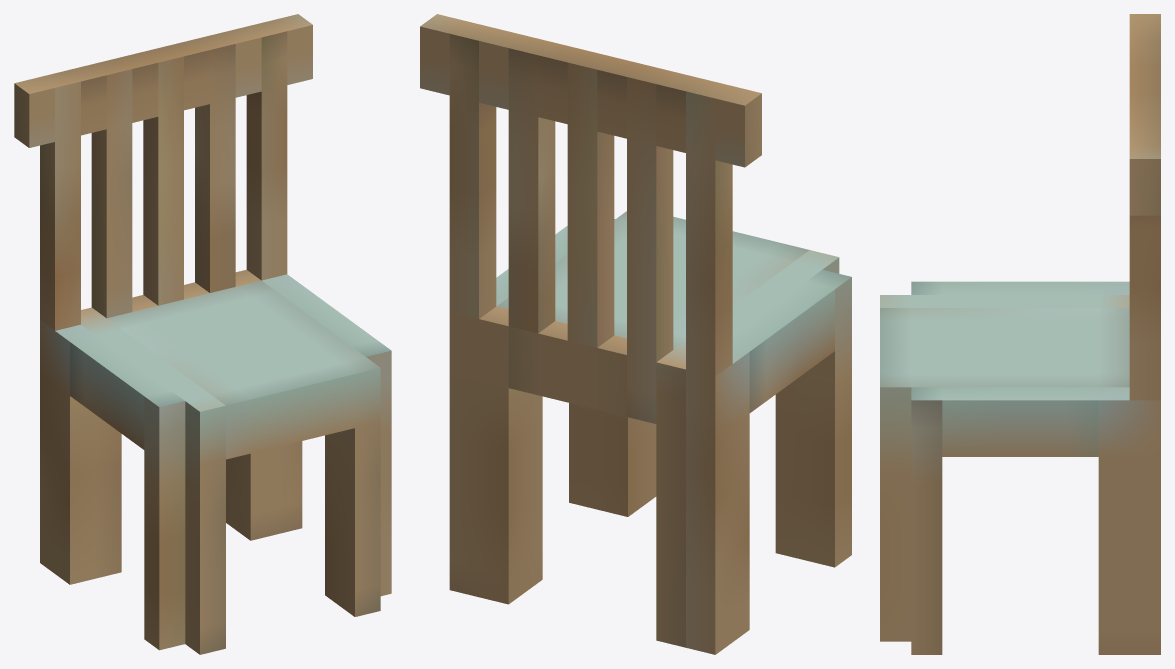
Rendered from ChairBirchBlueSeat_00.fbx.
3 renders of one model, left to right at view 1: azimuth 30°, elevation 25°; view 2: azimuth 150°, elevation 25°; view 3: azimuth 270°, elevation 25°, orthographic. The views are drawn at different scales.
Visible parts, largest first — view 1: ChairBirchBlueSeat_00; view 2: ChairBirchBlueSeat_00; view 3: ChairBirchBlueSeat_00.
Boxes of the visible parts, x1,y1,x2,y2 form: ChairBirchBlueSeat_00: [14, 14, 391, 654]; ChairBirchBlueSeat_00: [420, 14, 851, 654]; ChairBirchBlueSeat_00: [880, 14, 1160, 654].
Size of the model in its own units: 55 by 45 by 90.
Materials: 1 (1 with a texture image).
